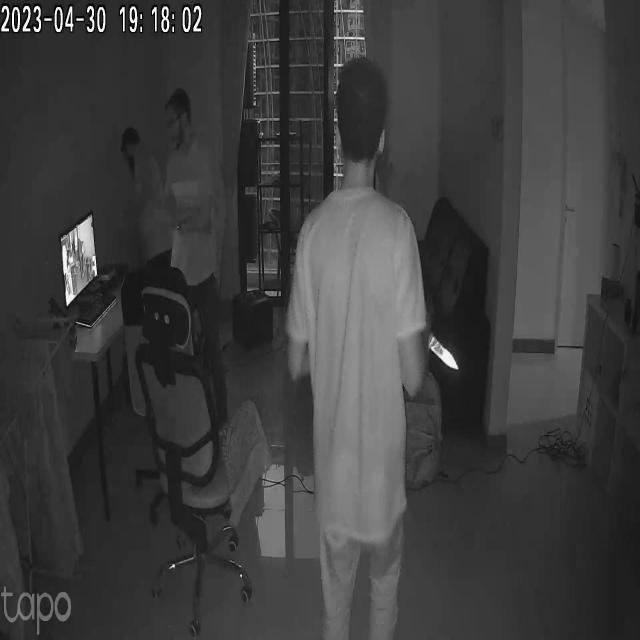Knife: (425, 316, 460, 372)
